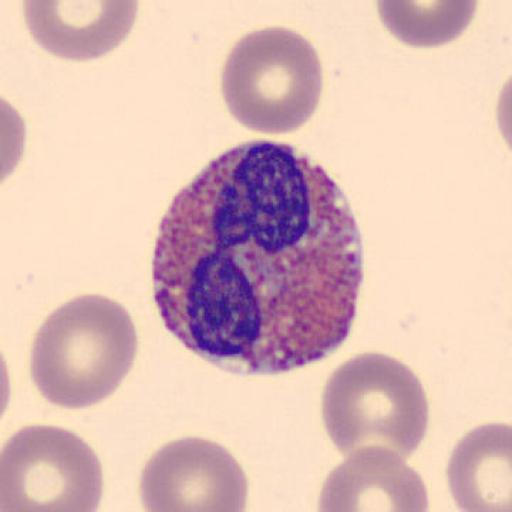RBC: (28, 292, 140, 410), (320, 349, 430, 466), (218, 24, 325, 137), (1, 421, 106, 512), (137, 433, 250, 512), (315, 443, 430, 512), (20, 0, 141, 65), (445, 420, 512, 512), (375, 0, 480, 49), (0, 93, 27, 192), (492, 64, 512, 167), (493, 74, 512, 157), (0, 338, 13, 431)
WBC: (146, 136, 368, 377)
